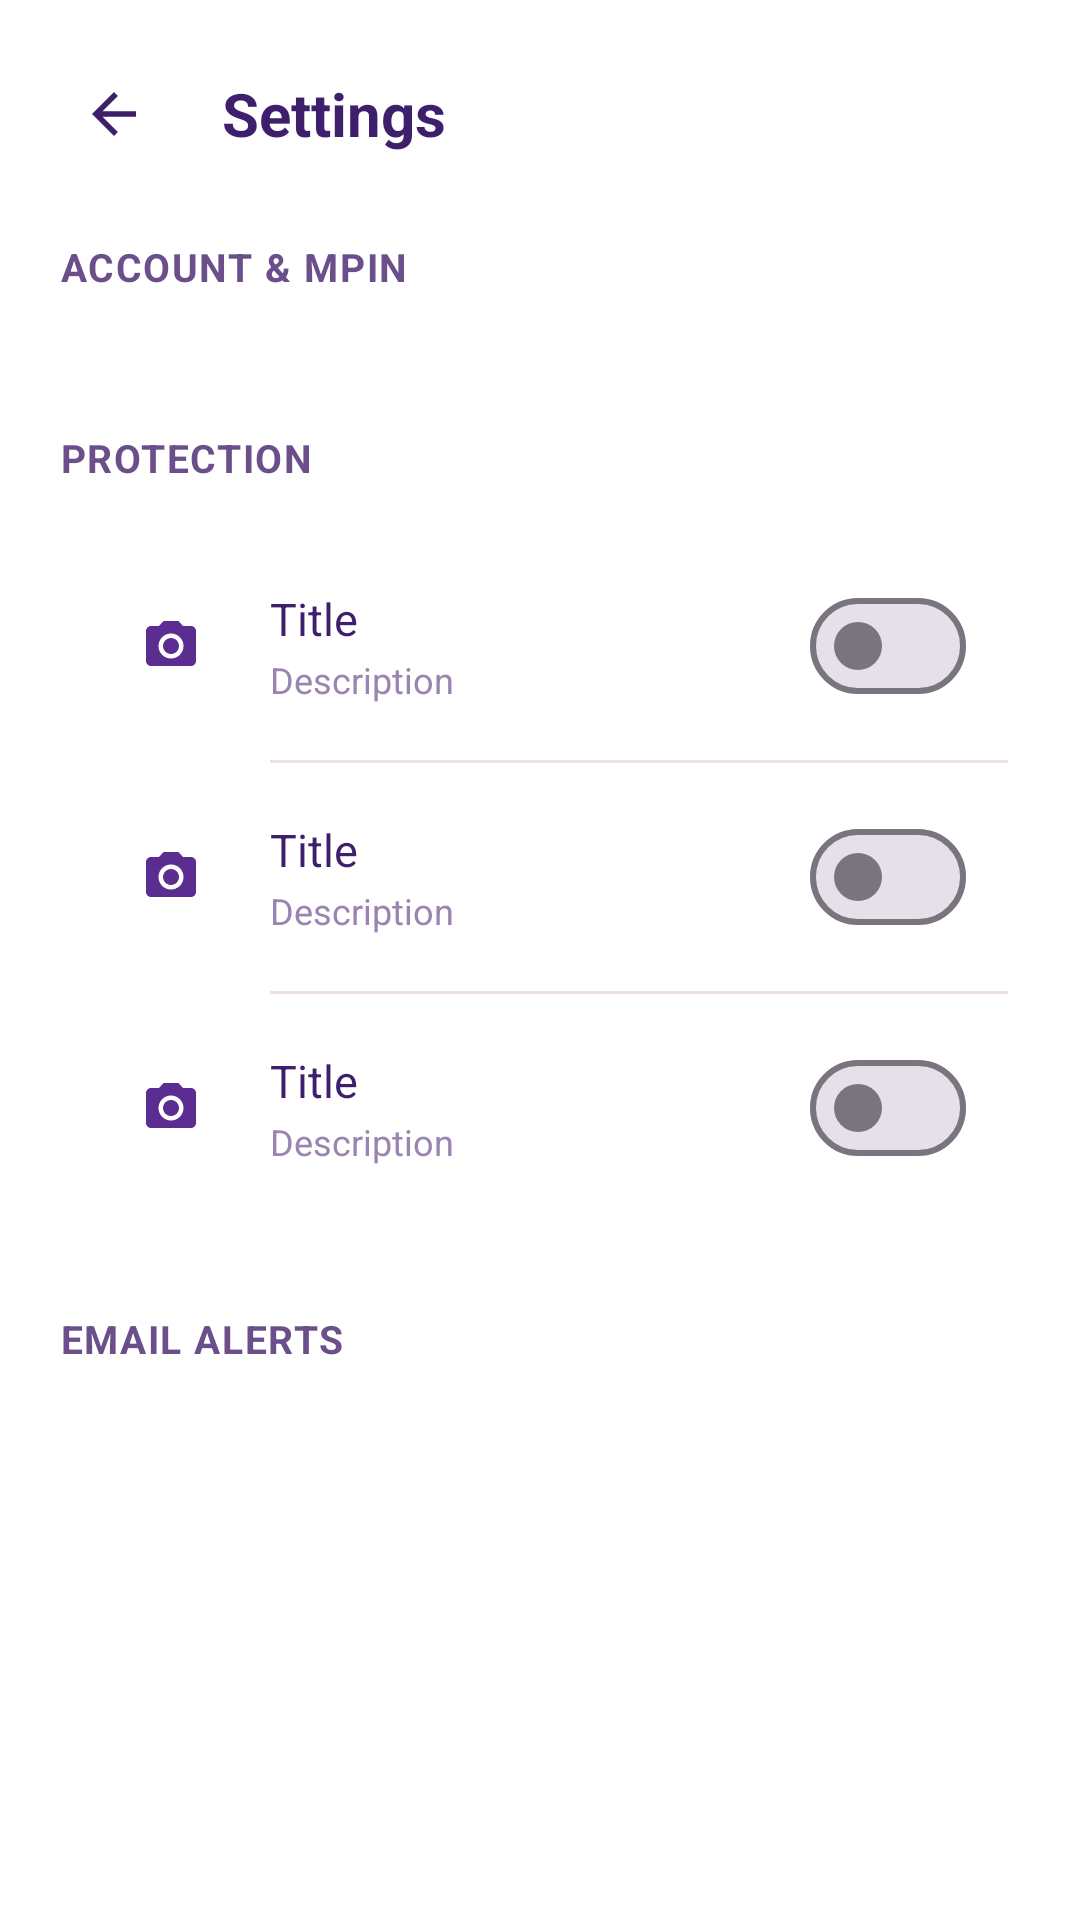

Screen size 1080*1920. Icon name, then its center in pixels as (x=x, y=y):
back: (x=114, y=114)
camera: (x=171, y=643), (x=171, y=874), (x=171, y=1105)
